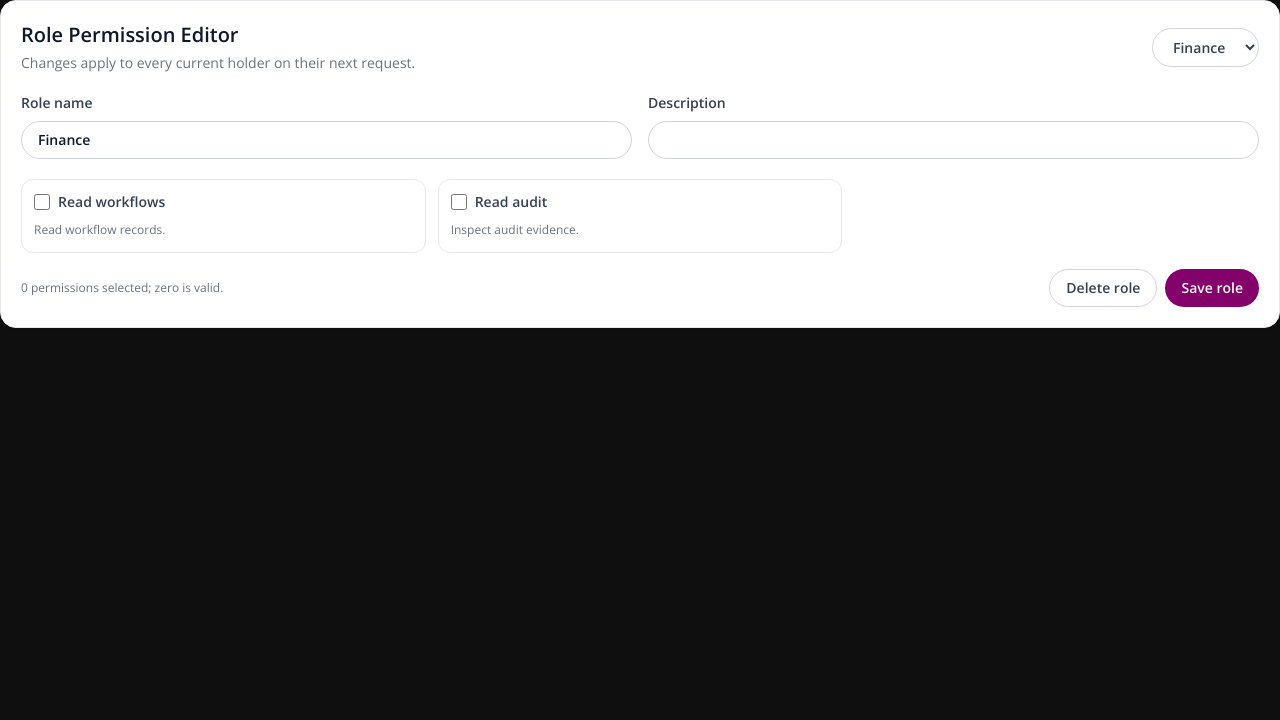
Scenario: shows the authoritative assigned-user count when deletion is refused
Click the button "Delete role": (1103, 288) 1049,269 -> 1157,307
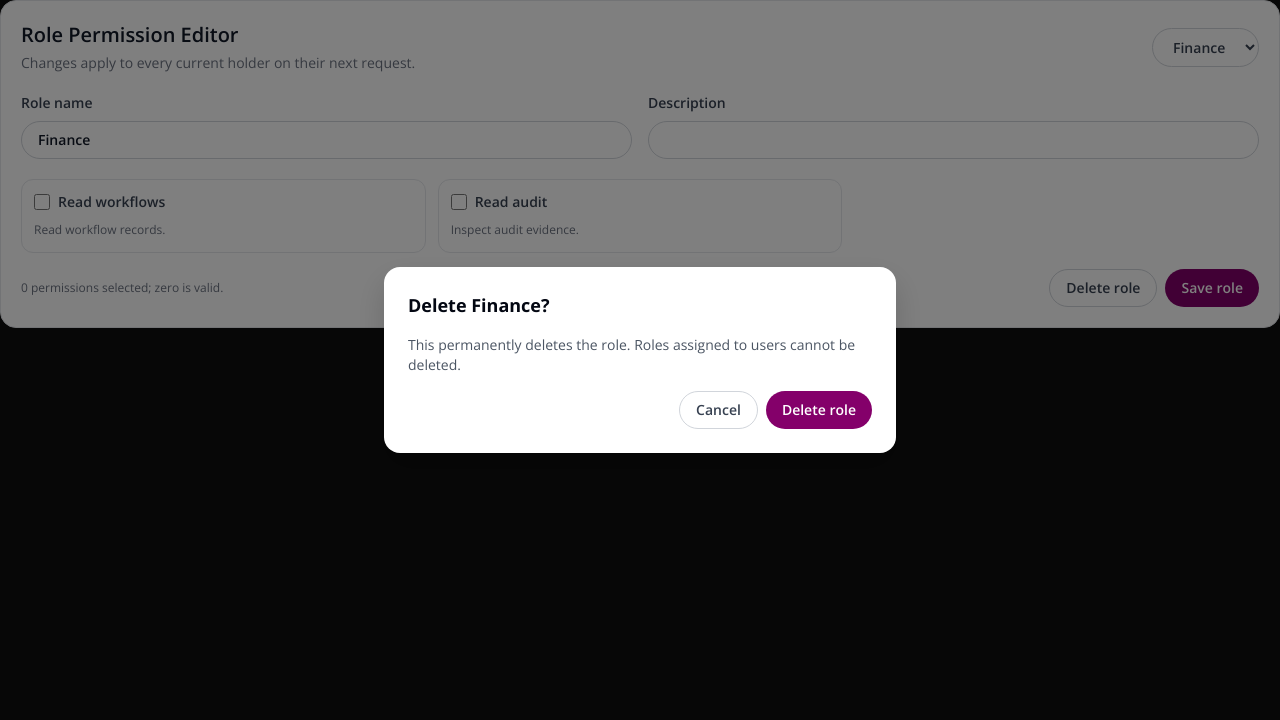
Click the button "Delete role": (819, 410) 766,391 -> 872,429
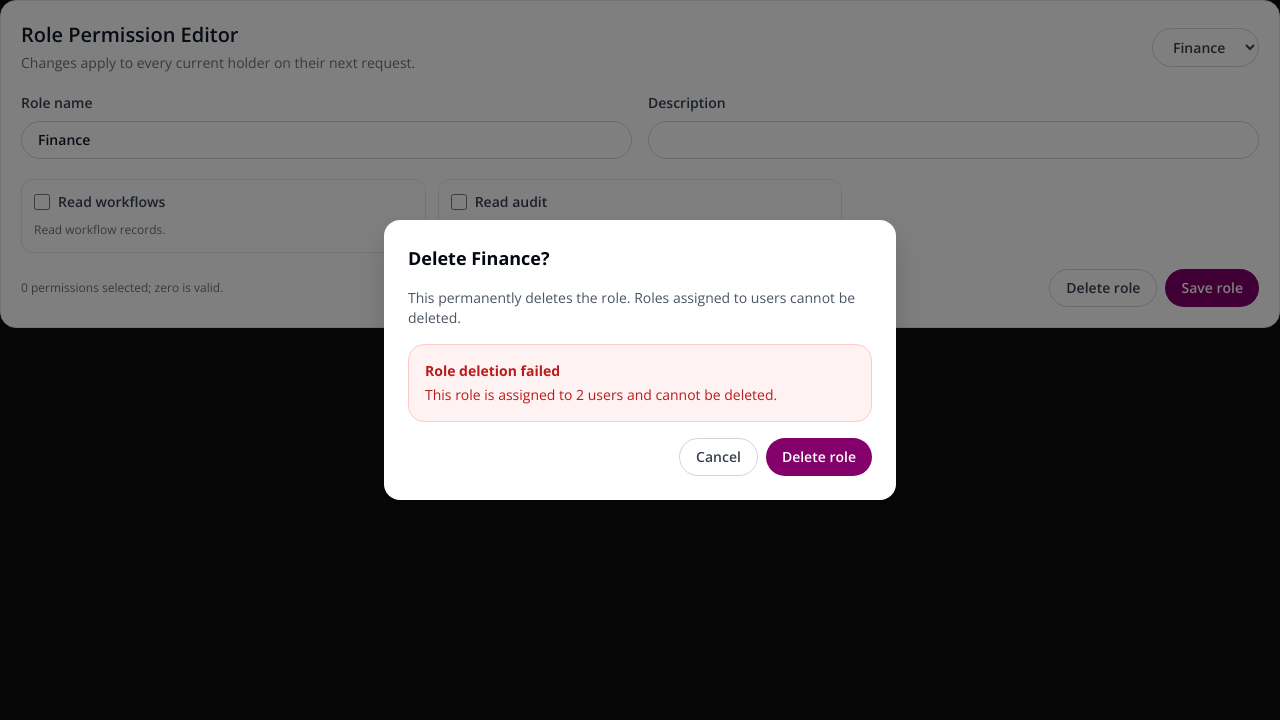
Check: the text "This role is assigned to 2 users and cannot be deleted." is shown, box 425,385 -> 777,404
